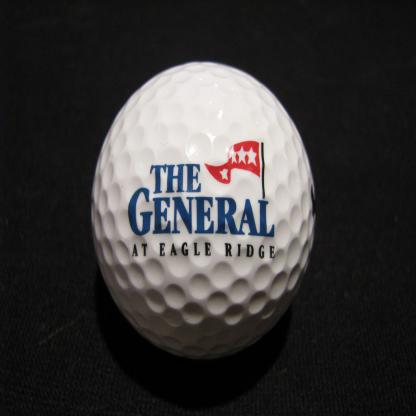Ball: (91, 60, 316, 360)
